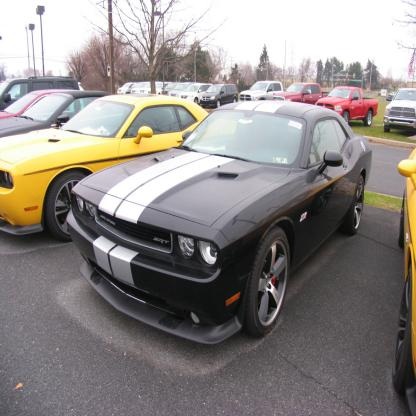Car: (1, 77, 416, 416)
